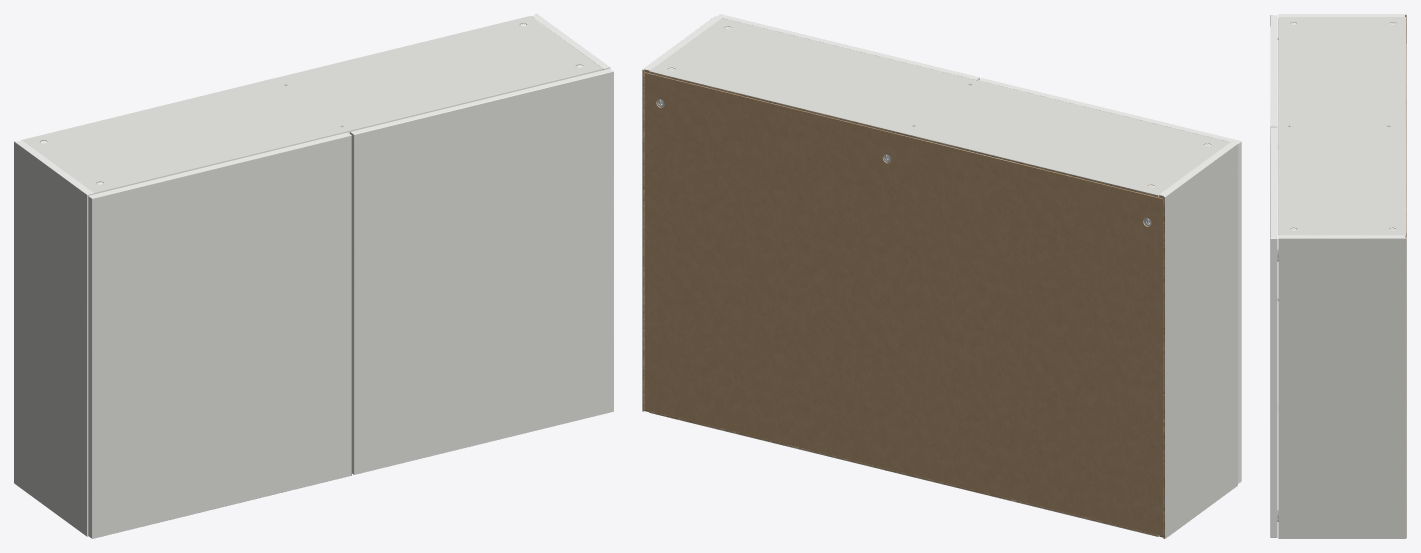
Rendered from knoxhult_szafka_scienna_z_drzwiami_90326792.glb.
3 views of the same model, side by side, from view 1: azimuth 30°, elevation 25°; view 2: azimuth 150°, elevation 25°; view 3: azimuth 270°, elevation 25° (orthographic). The views are drawn at different scales.
Visible parts, largest first — view 1: knoxhult_szafka_scienna_z_drzwiami_90326792; view 2: knoxhult_szafka_scienna_z_drzwiami_90326792; view 3: knoxhult_szafka_scienna_z_drzwiami_90326792.
Part boxes in pixels (x1,y1,x2,y2): knoxhult_szafka_scienna_z_drzwiami_90326792: (14,14,613,538); knoxhult_szafka_scienna_z_drzwiami_90326792: (642,14,1241,538); knoxhult_szafka_scienna_z_drzwiami_90326792: (1270,14,1406,538).
Bounding box in the file's own units: 1.2 × 0.75 × 0.3076.
Materials: 2 (2 with a texture image).
